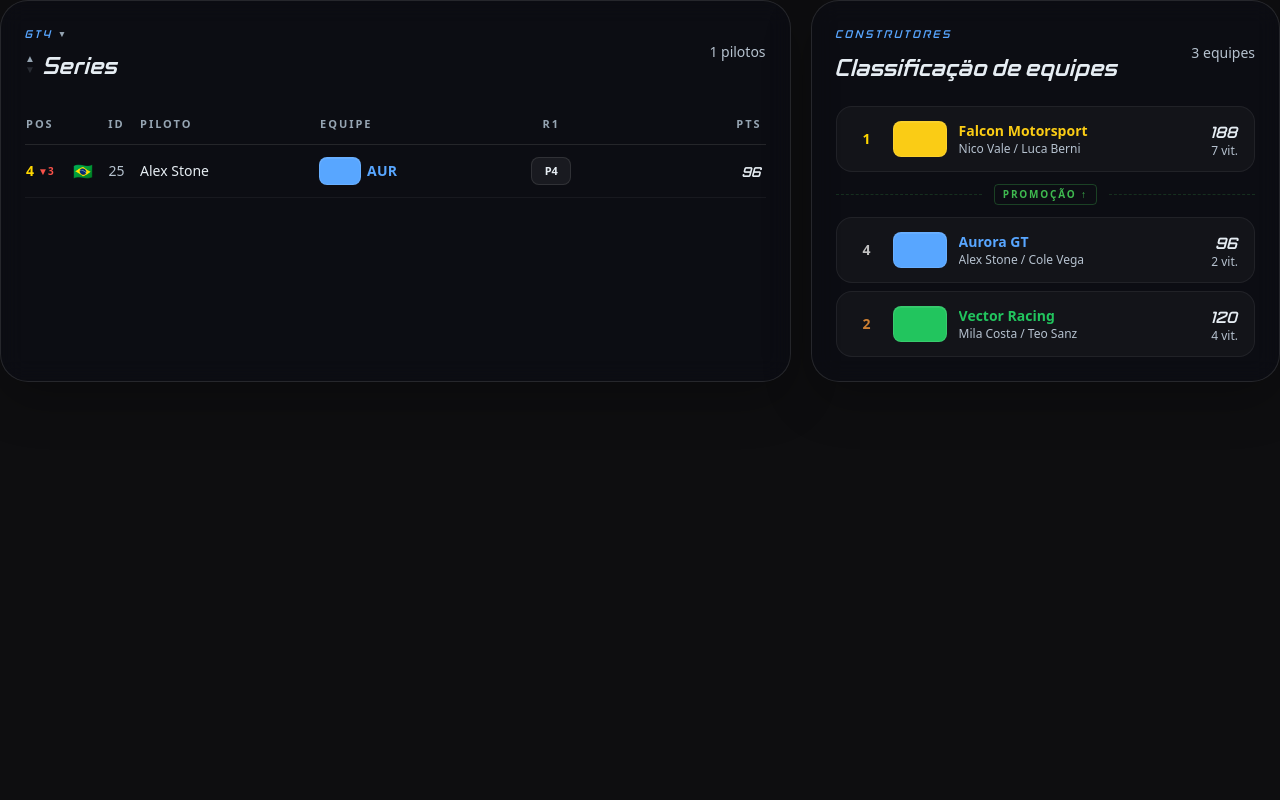
it: StandingsTab › opens the team history drawer directly from the team standings on single click
Step 1. Click the text "Vector Racing" → (1007, 316), box [959,306,1055,326]
Wait 221 ms
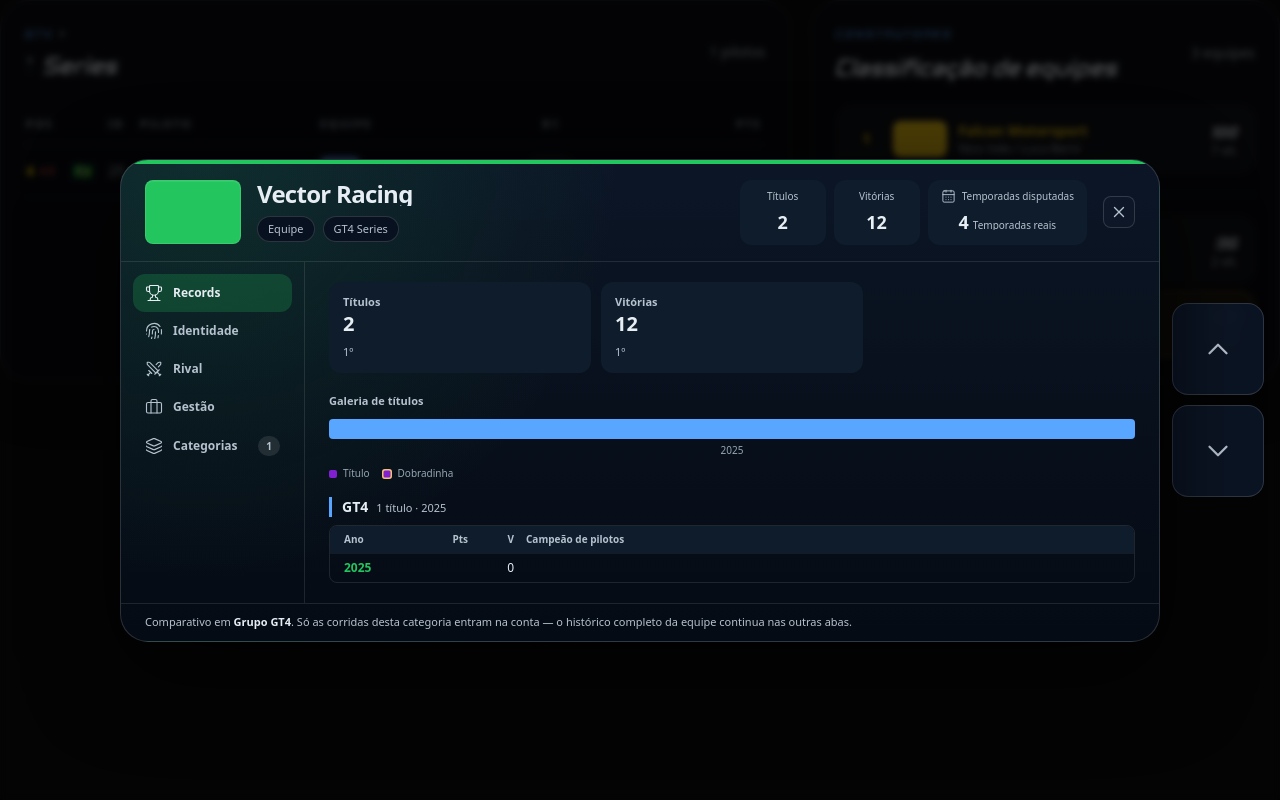
Now the tab "Identidade" is shown, box [133,312,292,350]
Step 2. Click the tab "Rival" → (212, 368), box [133,350,292,388]
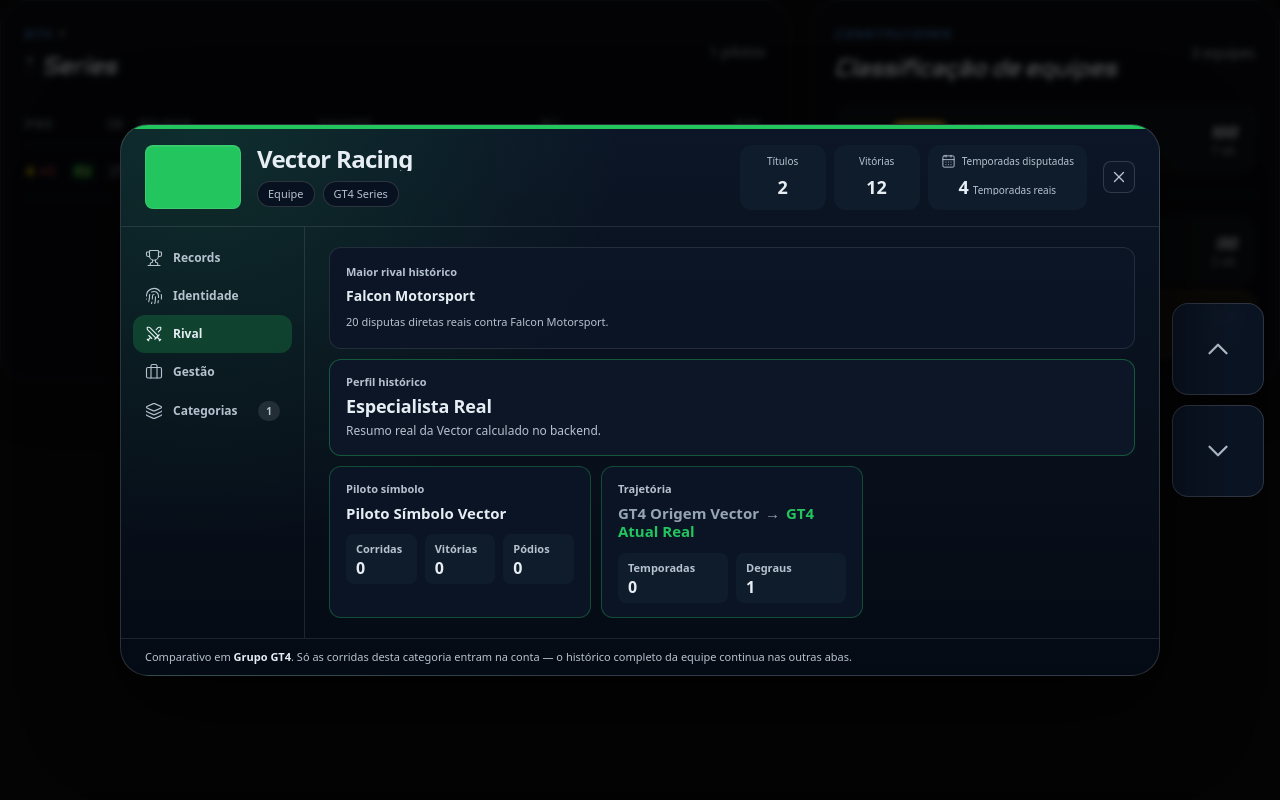
Now the text "Especialista Real" is shown, box [346,394,492,418]
